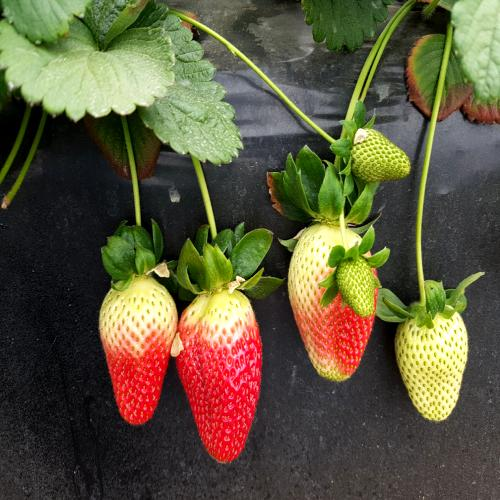partially-ripe: (177, 283, 274, 470), (283, 214, 387, 383), (94, 276, 180, 433)
